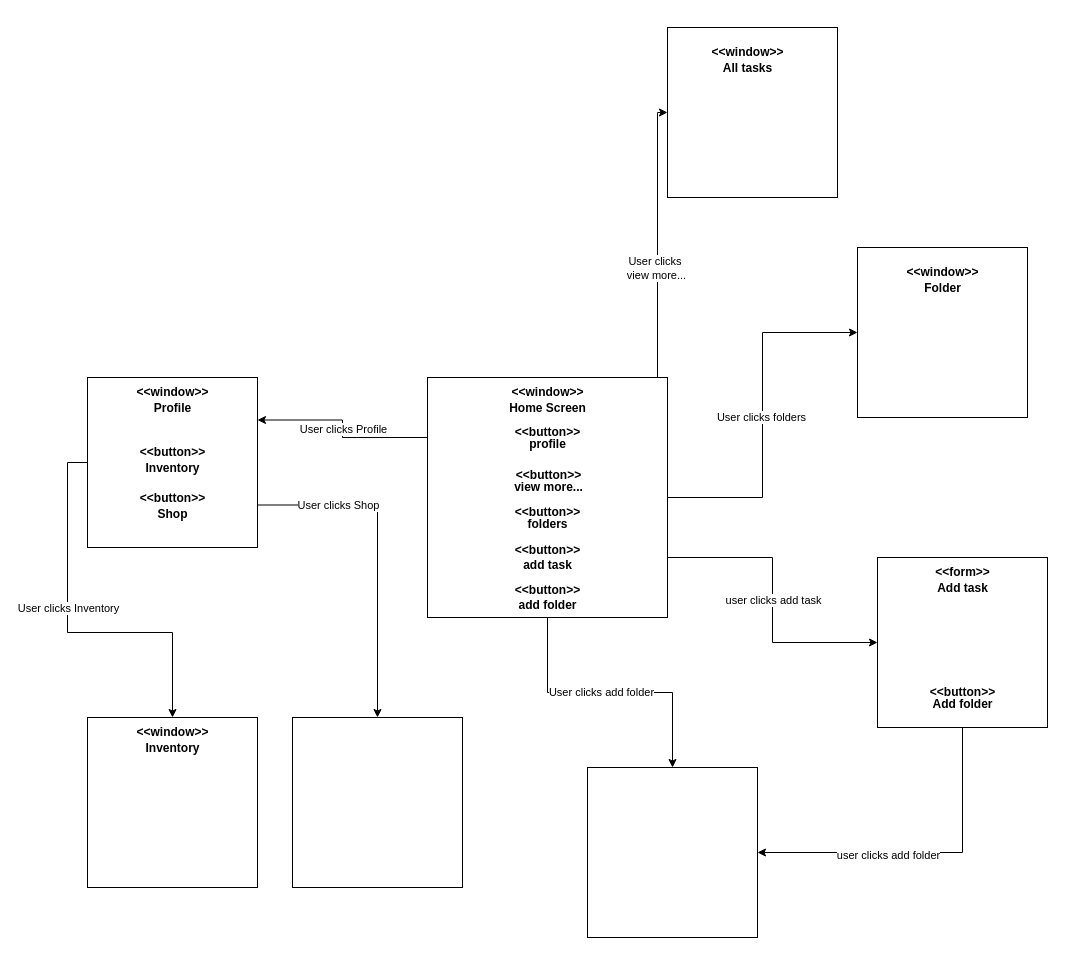
This 1065x955 diagram has some shape labels left out. The shapes that lost their labels are listed below. From the top down, each one's box as (x1, y1, x2, y2) in pixels, then its label:
(292, 716, 462, 888): <<window>> Shop
(586, 766, 758, 938): <<form>> Add folder
